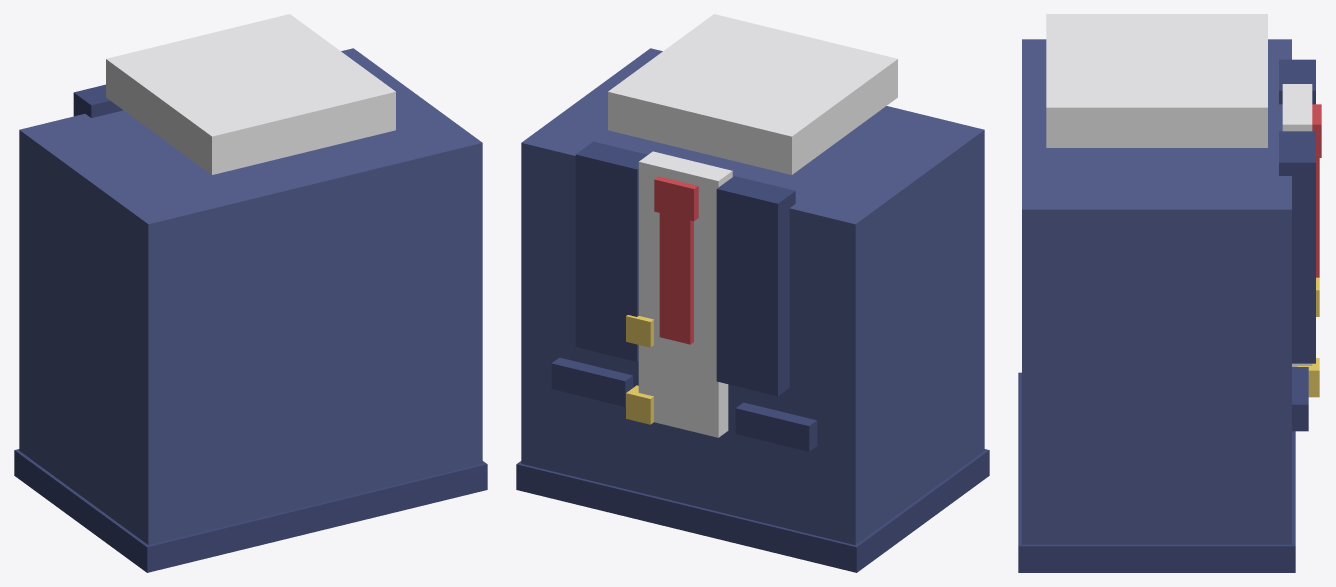
File: escolar_tronco.glb
3 views of the same model, side by side, from view 1: azimuth 30°, elevation 25°; view 2: azimuth 150°, elevation 25°; view 3: azimuth 270°, elevation 25° (orthographic). The views are drawn at different scales.
Visible parts, largest first — view 1: escolar_tronco; view 2: escolar_tronco; view 3: escolar_tronco.
Part boxes in pixels (left/top/right/bottom): escolar_tronco: left=14, top=14, right=487, bottom=572; escolar_tronco: left=516, top=14, right=989, bottom=572; escolar_tronco: left=1018, top=14, right=1321, bottom=572.
Bounding box in the file's own units: 0.555 × 0.635 × 0.41.
